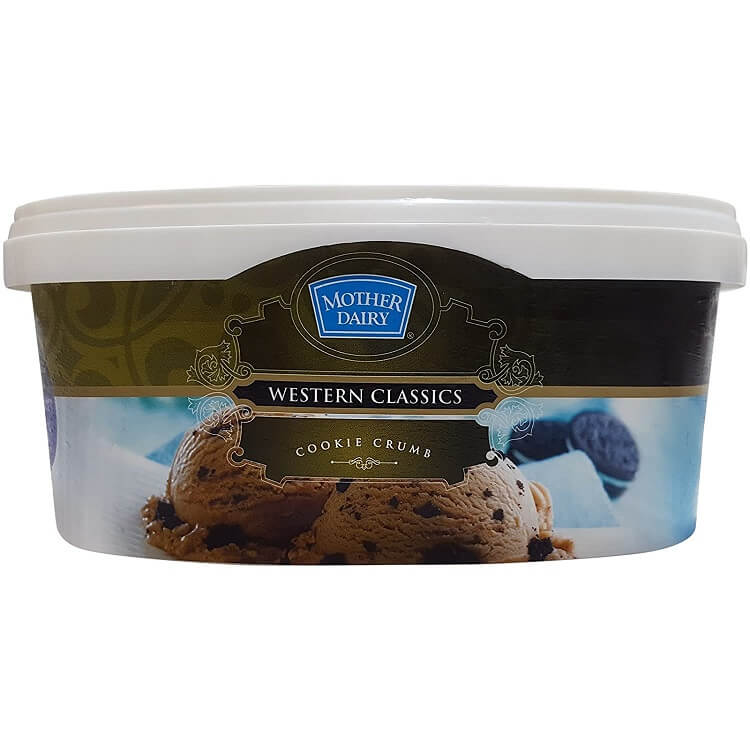Mother_Dairy: (297, 265, 426, 350)
